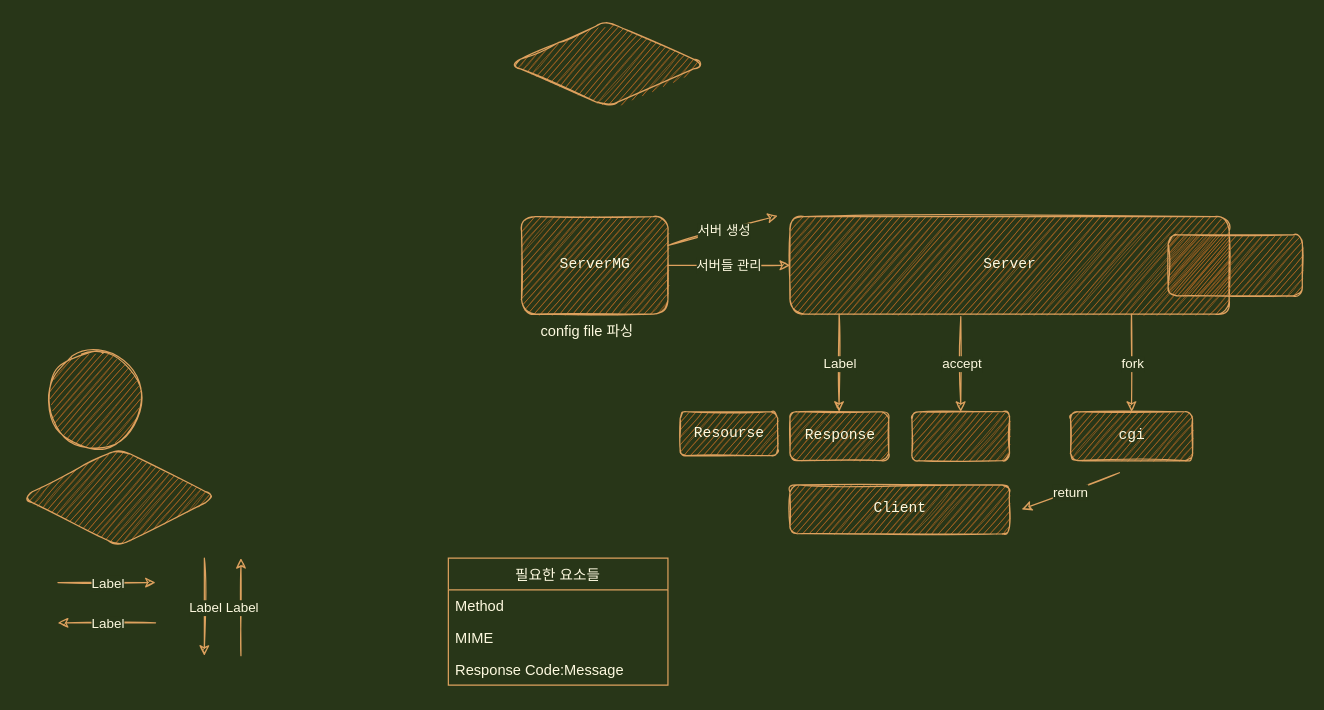
The diagram is 1324 pixels wide and 710 high, and some of its shapes have lost their labels. The shapes that lost their labels are listed below. From the top down, each one's box as (x1, y1, x2, y2) in pixels, then its label:
(508, 20, 705, 107): Config file
(1167, 234, 1302, 296): Location
(911, 411, 1010, 461): Request
